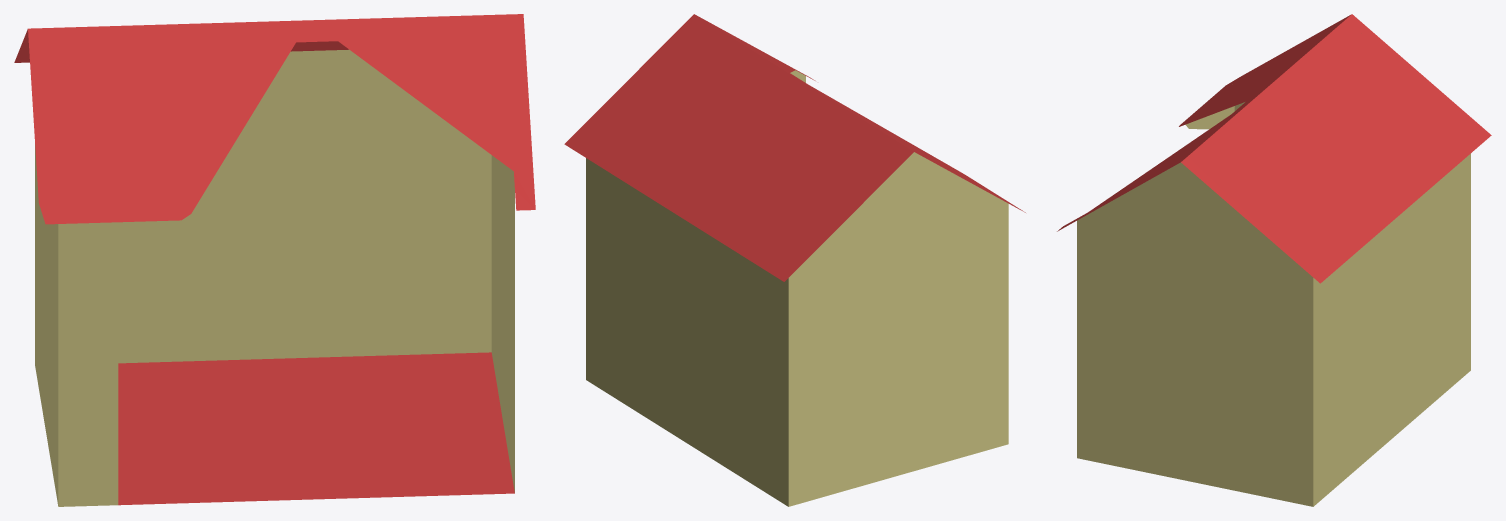
The picture shows the model from 3 angles, left to right: view 1: azimuth 30°, elevation 25°; view 2: azimuth 150°, elevation 25°; view 3: azimuth 270°, elevation 25°; orthographic projection. The views are drawn at different scales.
Size of the model in its own units: 15.47 by 14.15 by 11.64.
